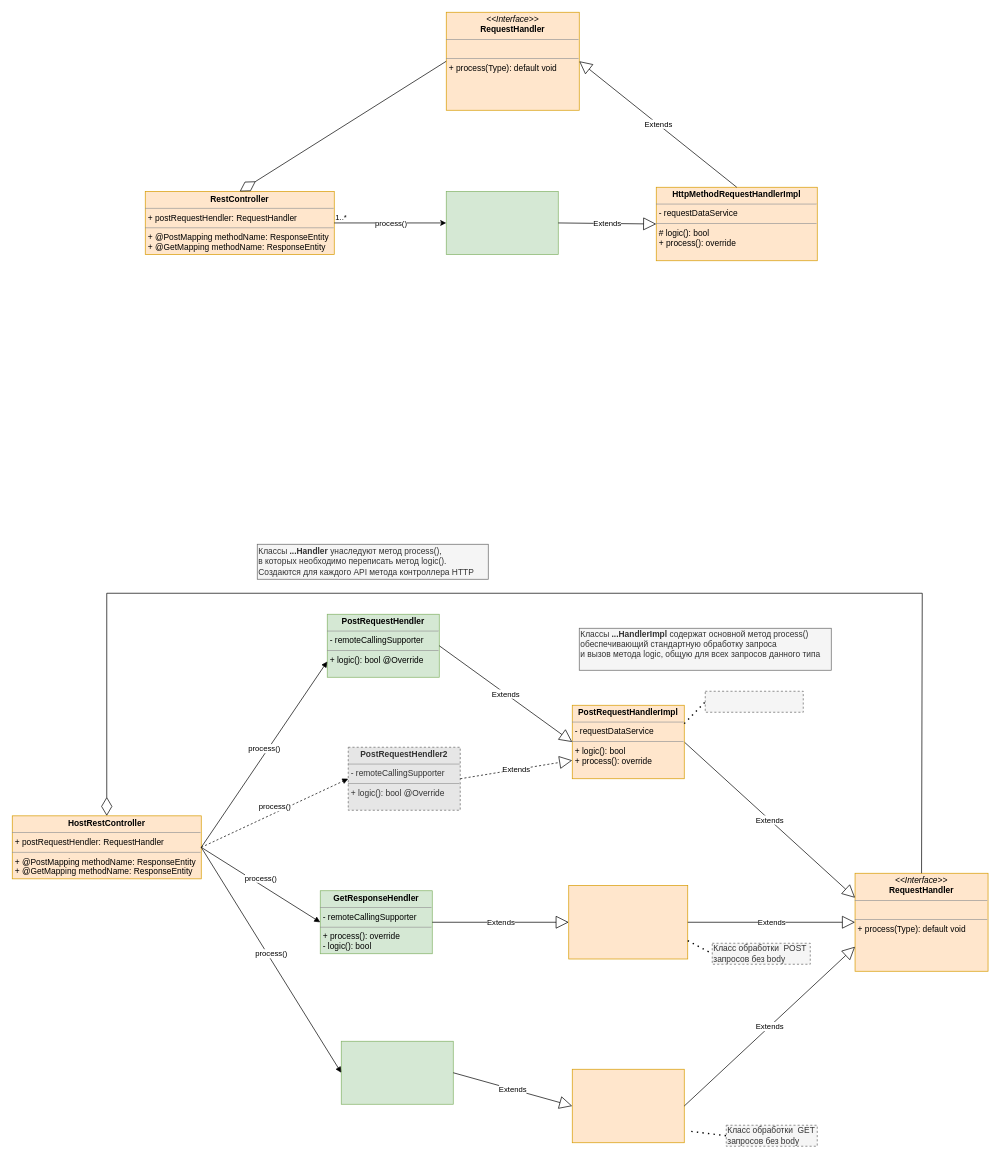
This 1000x1159 diagram has some shape labels left out. The box of each missing label's shape, as (x1, y1, x2, y2) in pixels:
GetRequestHandlerImpl + logic(): bool + process(Type): override: (572, 1069, 684, 1143)
GetRequestHendler - remoteCallingSupporter + process(): override - logic(): bool: (341, 1041, 453, 1104)
HttpMethodRequestHendler - remoteCallingSupporter # logic(): bool @Override: (446, 191, 558, 254)
PutResponseHandlerImpl + logic(): bool + process(Type): override: (568, 885, 688, 959)
Класс обработки POST запросов с body: (705, 691, 803, 712)
